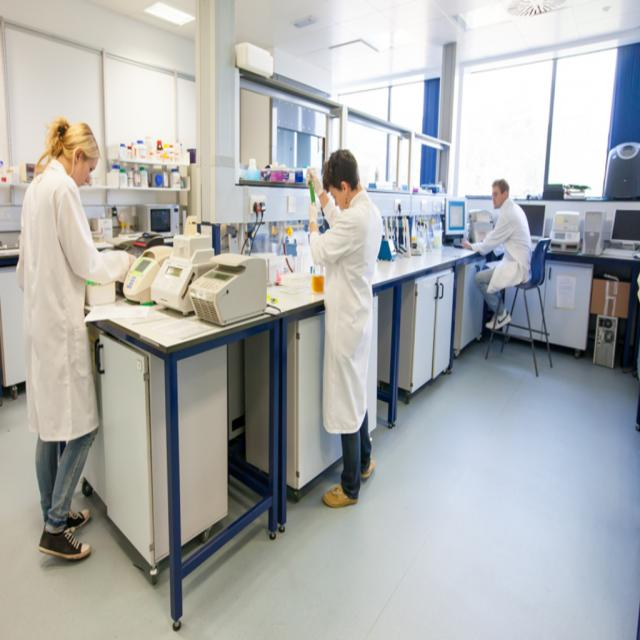chair: (484, 237, 554, 373)
desk: (89, 239, 290, 609)
laptop: (607, 206, 640, 250)
person: (16, 118, 134, 562), (309, 147, 382, 509), (471, 177, 533, 335)
tv: (610, 207, 640, 244), (444, 198, 465, 238)
